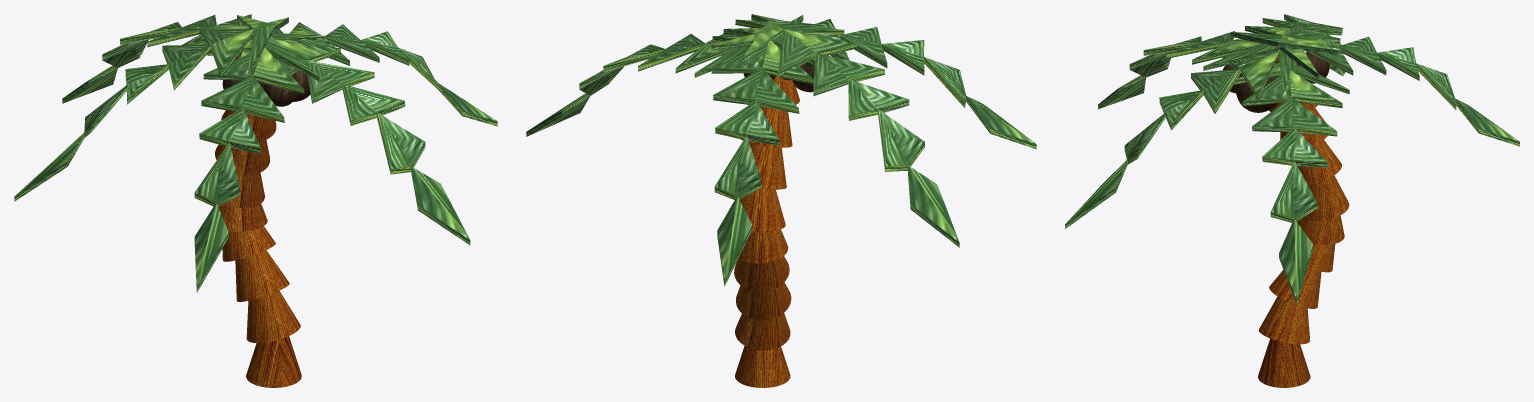
The model's file is palm-tree.obj.
The picture shows the model from 3 angles, left to right: view 1: azimuth 30°, elevation 25°; view 2: azimuth 150°, elevation 25°; view 3: azimuth 270°, elevation 25°; orthographic projection. The views are drawn at different scales.
Parts seen in each view (by area): view 1: Cube.004, Cube.001, Cube.003, Cube, Cube.002, Cylinder, Cylinder.001, Cylinder.002, Cylinder.006, Cylinder.007, Cylinder.009, Cylinder.008 (+2 smaller); view 2: Cube.003, Cube.002, Cube.004, Cube, Cylinder, Cylinder.001, Cylinder.002, Cylinder.008, Cylinder.006, Cylinder.007, Cylinder.009, Cylinder.010 (+1 smaller); view 3: Cube, Cube.001, Cube.002, Cube.004, Cube.003, Cylinder, Cylinder.001, Cylinder.008, Cylinder.002, Cylinder.007, Cylinder.009, Cylinder.006 (+1 smaller).
Boxes of the visible parts, x1,y1,x2,y2 form: Cube.004: (194,37,318,292); Cube.001: (240,33,470,245); Cube.003: (14,15,275,201); Cube: (274,22,497,126); Cube.002: (62,14,288,103); Cylinder: (246,336,301,387); Cylinder.001: (246,290,300,343); Cylinder.002: (235,250,289,301); Cylinder.006: (222,226,275,261); Cylinder.007: (218,203,267,231); Cylinder.009: (215,139,269,175); Cylinder.008: (223,172,264,207); Cube.003: (743,21,959,247); Cube.002: (711,32,815,286); Cube.004: (788,15,1036,149); Cube: (526,33,749,136); Cylinder: (735,346,790,387); Cylinder.001: (735,313,790,350); Cylinder.002: (736,282,791,320); Cylinder.008: (740,188,785,232); Cylinder.006: (734,256,789,291); Cylinder.007: (738,229,788,263); Cylinder.009: (749,143,786,189); Cylinder.010: (740,108,792,147); Cube: (1234,62,1349,304); Cube.001: (1065,49,1294,228); Cube.002: (1279,31,1519,146); Cube.004: (1098,31,1279,109); Cube.003: (1231,14,1345,76); Cylinder: (1258,338,1310,387); Cylinder.001: (1259,296,1310,344); Cylinder.008: (1303,175,1349,221); Cylinder.002: (1269,267,1321,308); Cylinder.007: (1297,215,1344,244); Cylinder.009: (1298,140,1341,184); Cylinder.006: (1308,244,1335,272).
Bounding box in the file's own units: 18.97 × 13.99 × 17.27.
20 materials, 20 textured.
